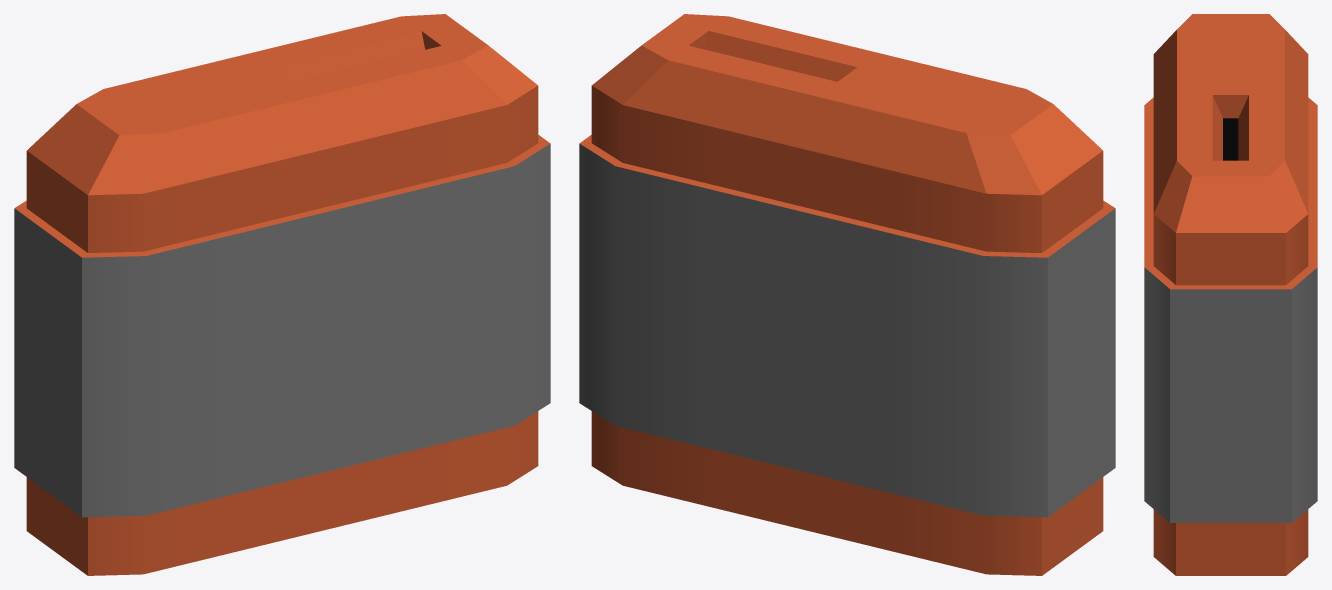
Rendered from Seed_Container_V2.fbx.
The picture shows the model from 3 angles, left to right: view 1: azimuth 30°, elevation 25°; view 2: azimuth 150°, elevation 25°; view 3: azimuth 270°, elevation 25°; orthographic projection. The views are drawn at different scales.
Parts seen in each view (by area): view 1: pCube1; view 2: pCube1; view 3: pCube1.
Boxes of the visible parts, <box> form: pCube1: <box>14,14,550,575</box>; pCube1: <box>579,14,1115,575</box>; pCube1: <box>1144,14,1317,575</box>.
Bounding box in the file's own units: 0.2575 × 0.2227 × 0.0917.
